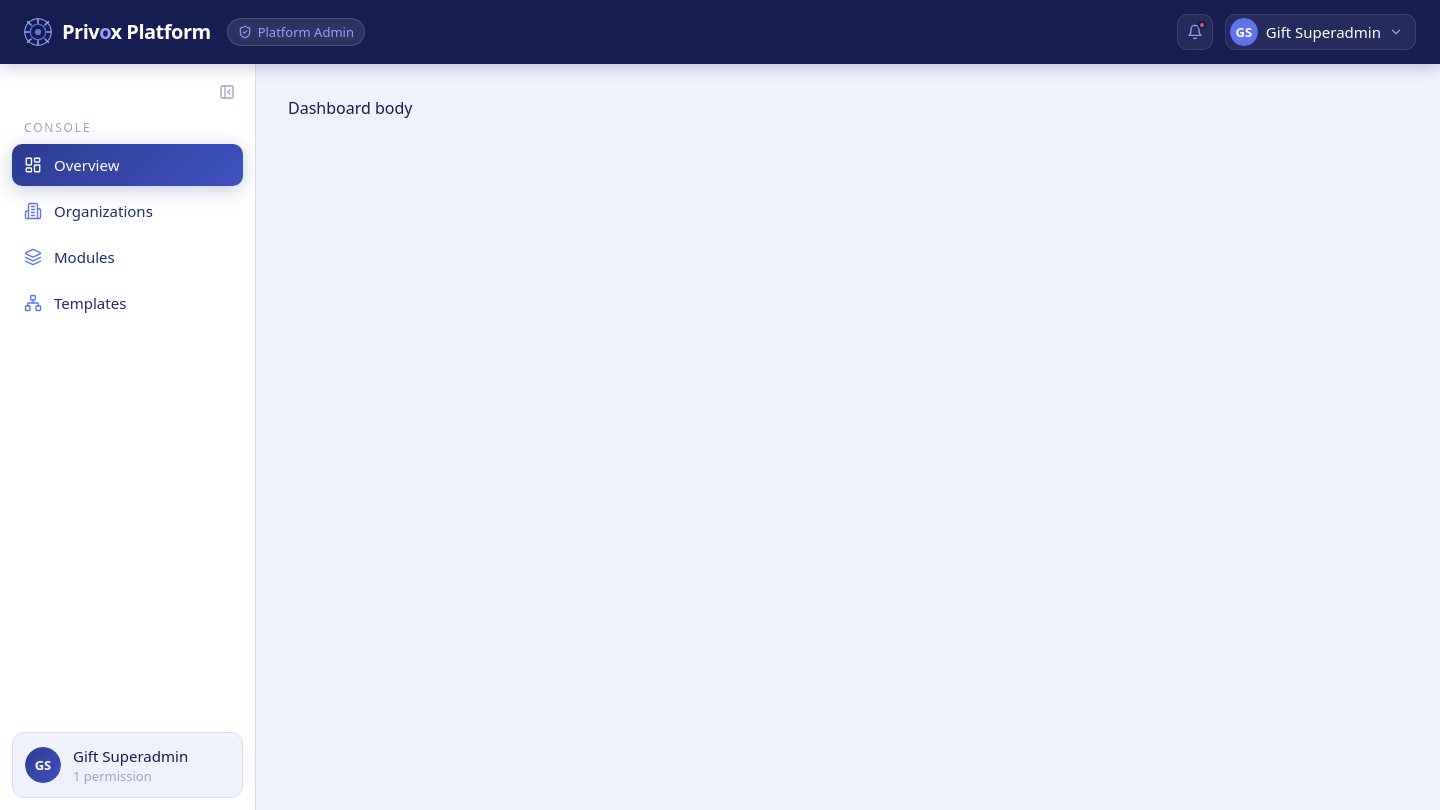
Test case: PlatformLayout sidebar › labels the notifications panel as sample content
Click the button named "Notifications" at [1195, 32], box [1177,14,1213,50]
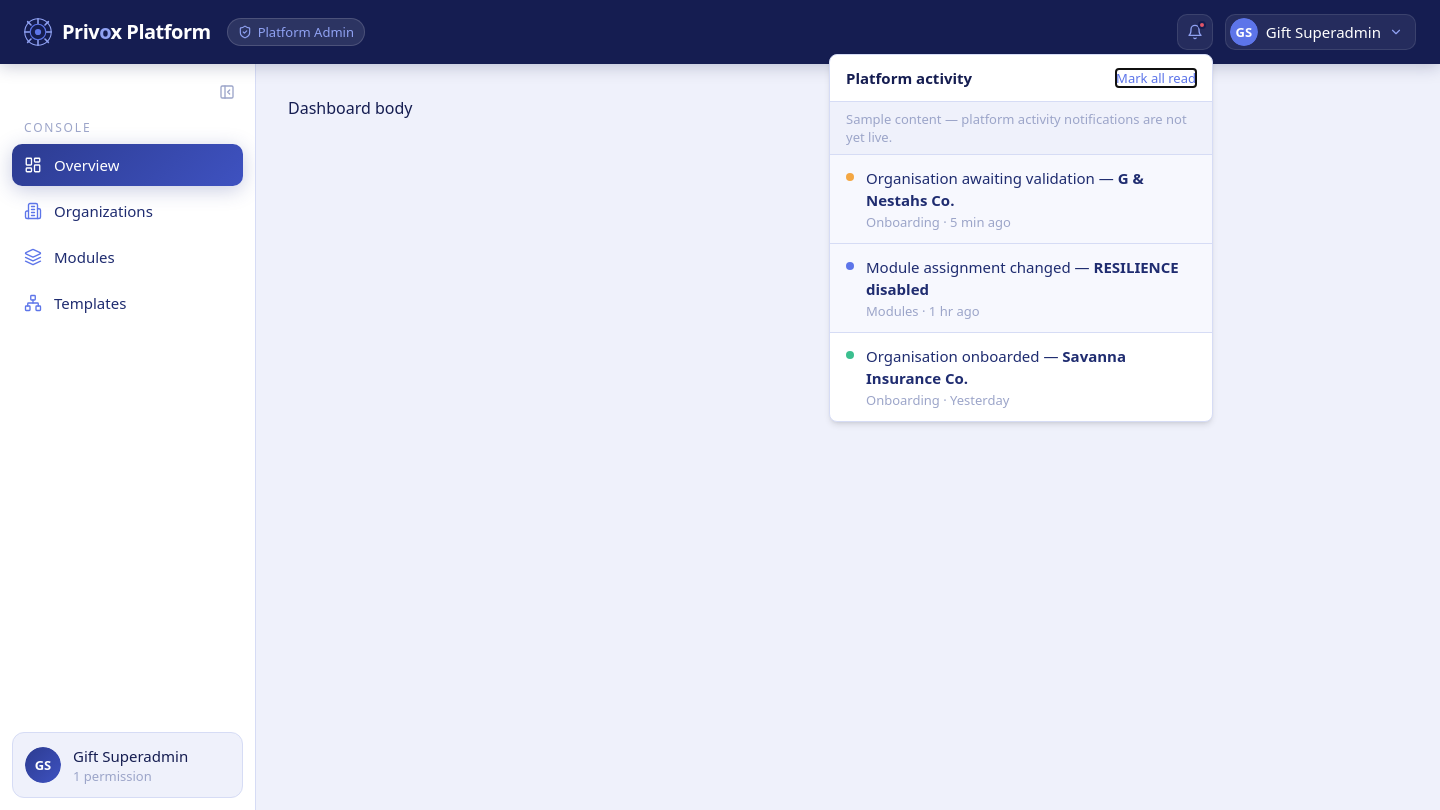
Expected: the text "Sample content" is shown, [846,110,1187,146]
